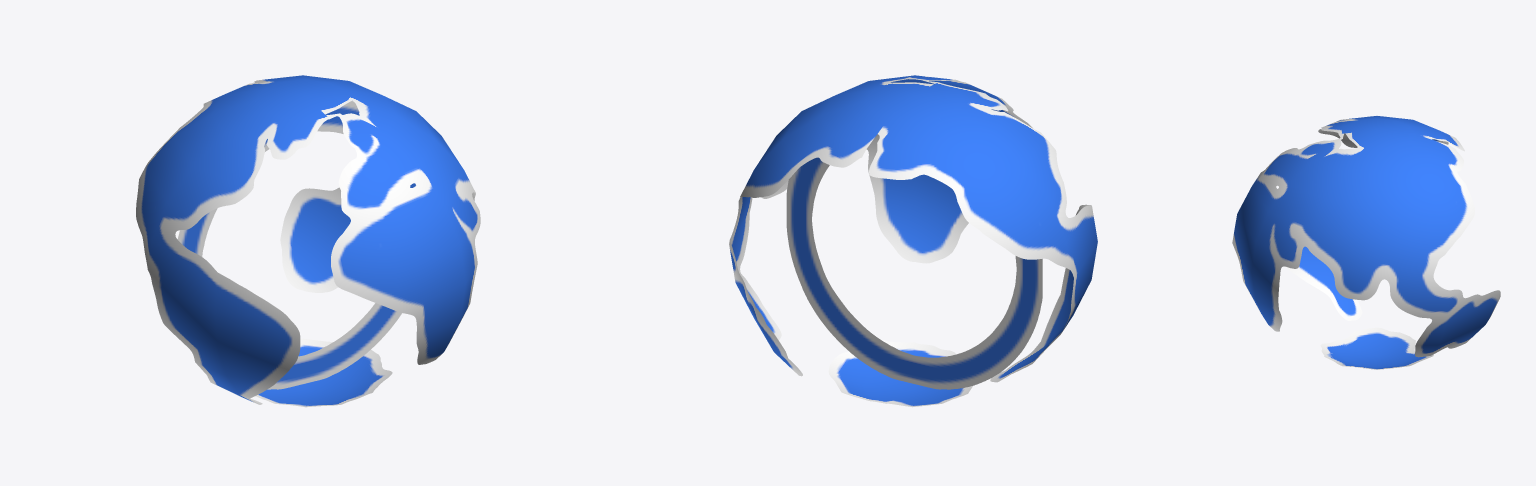
The model's file is ___loading_indicator.fbx.
The picture shows the model from 3 angles, left to right: view 1: azimuth 30°, elevation 25°; view 2: azimuth 150°, elevation 25°; view 3: azimuth 270°, elevation 25°; orthographic projection. The views are drawn at different scales.
Parts seen in each view (by area): view 1: loading_indicator, _loading_indicator_frame; view 2: loading_indicator, _loading_indicator_frame; view 3: loading_indicator.
Boxes of the visible parts, x1,y1,x2,y2 form: loading_indicator: (136, 75, 480, 407); _loading_indicator_frame: (177, 101, 415, 389); loading_indicator: (729, 75, 1097, 407); _loading_indicator_frame: (786, 157, 1042, 389); loading_indicator: (1232, 116, 1500, 369).
Size of the model in its own units: 15.37 by 8 by 8.69.
Materials: 2 (2 with a texture image).
